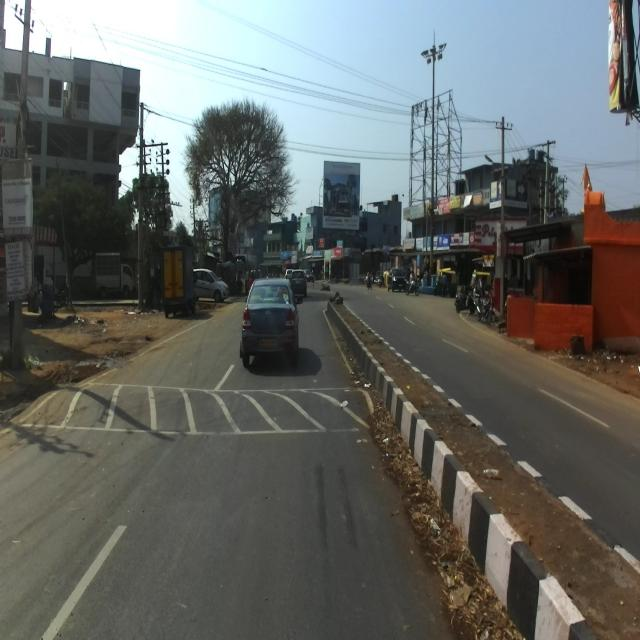car: (239, 277, 303, 368)
